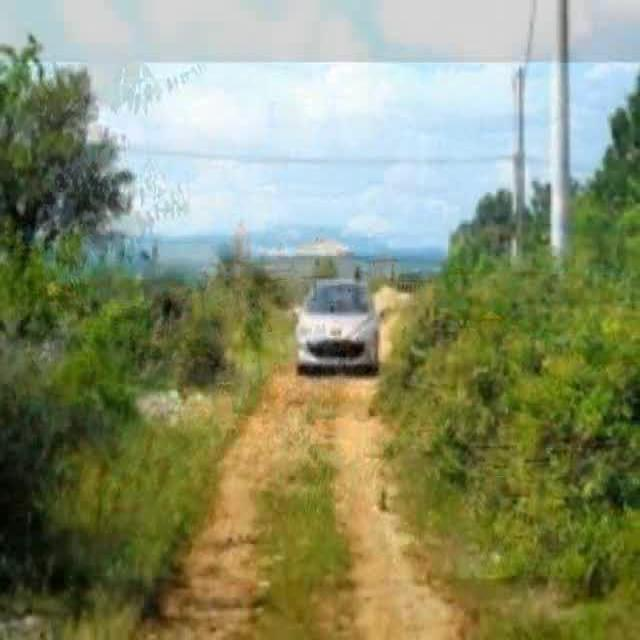other: (236, 348, 420, 482)
